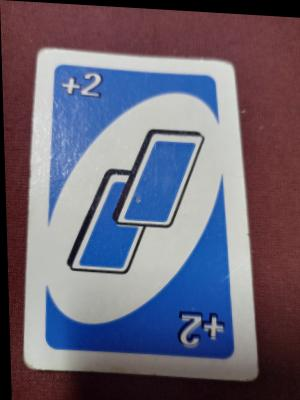-2: (170, 303, 227, 352), (58, 63, 110, 104)
blue: (49, 60, 236, 364)
